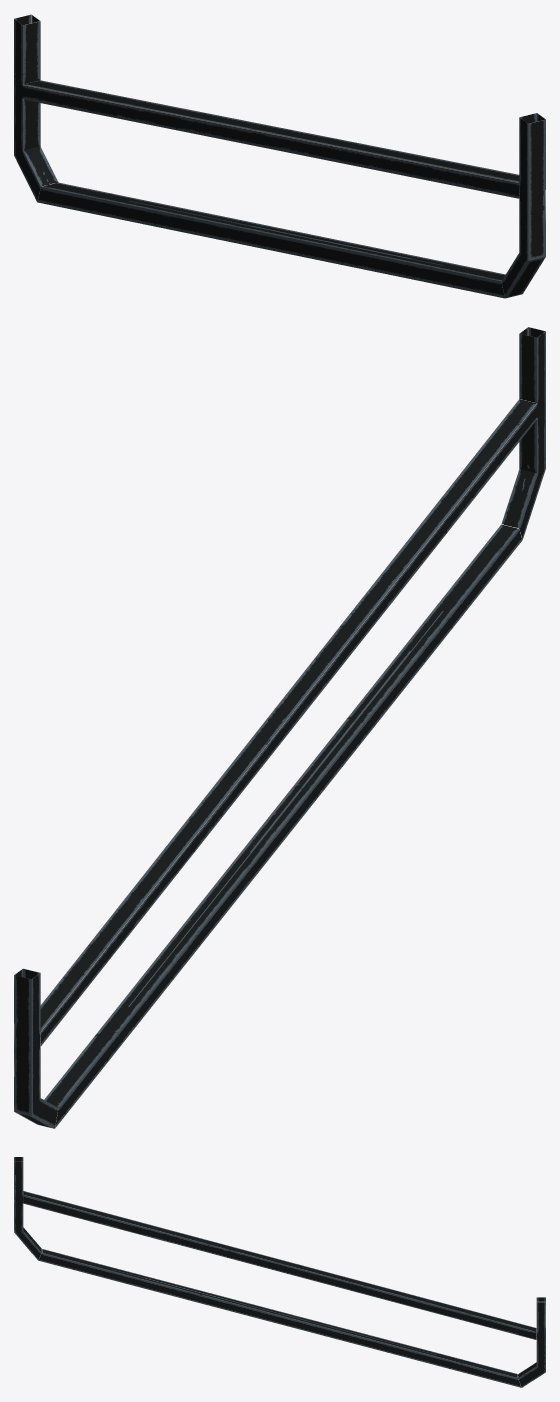
File: railing2.fbx
3 views of the same model, one above another, from view 1: azimuth 30°, elevation 25°; view 2: azimuth 150°, elevation 25°; view 3: azimuth 270°, elevation 25° (orthographic). The views are drawn at different scales.
Parts seen in each view (by area): view 1: Railling_curve_Lowpoly003; view 2: Railling_curve_Lowpoly003; view 3: Railling_curve_Lowpoly003.
Part boxes in pixels (x1,y1,x2,y2): Railling_curve_Lowpoly003: (14,14,545,298); Railling_curve_Lowpoly003: (14,327,545,1128); Railling_curve_Lowpoly003: (14,1157,545,1387).
Bounding box in the file's own units: 6.77 × 161 × 344.
